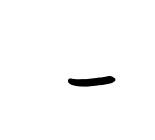minus: (67, 76, 114, 86)
